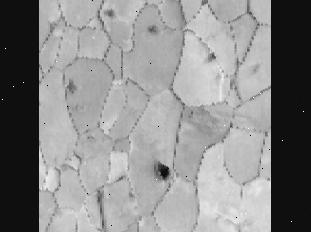good_void: (186, 105, 219, 130), (153, 157, 174, 185), (95, 186, 106, 210), (67, 74, 79, 96), (103, 4, 119, 18), (205, 49, 219, 64), (249, 61, 263, 75), (146, 21, 162, 33), (197, 0, 216, 6), (87, 134, 97, 139)
